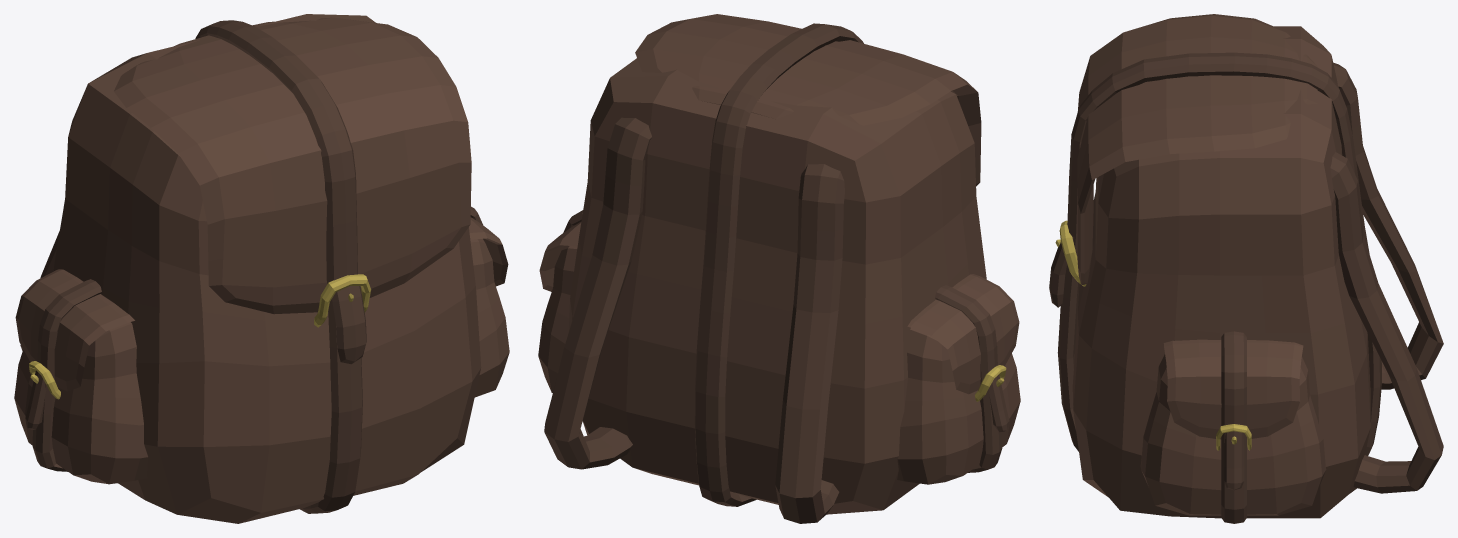
File: Backpack.glb
The picture shows the model from 3 angles, left to right: view 1: azimuth 30°, elevation 25°; view 2: azimuth 150°, elevation 25°; view 3: azimuth 270°, elevation 25°; orthographic projection. The views are drawn at different scales.
Visible parts, largest first — view 1: Backpack_Cube.097; view 2: Backpack_Cube.097; view 3: Backpack_Cube.097.
Part boxes in pixels (x1,y1,x2,y2): Backpack_Cube.097: [14, 14, 509, 523]; Backpack_Cube.097: [538, 14, 1020, 523]; Backpack_Cube.097: [1049, 14, 1443, 523].
Bounding box in the file's own units: 1.07 × 0.9506 × 0.8038.
